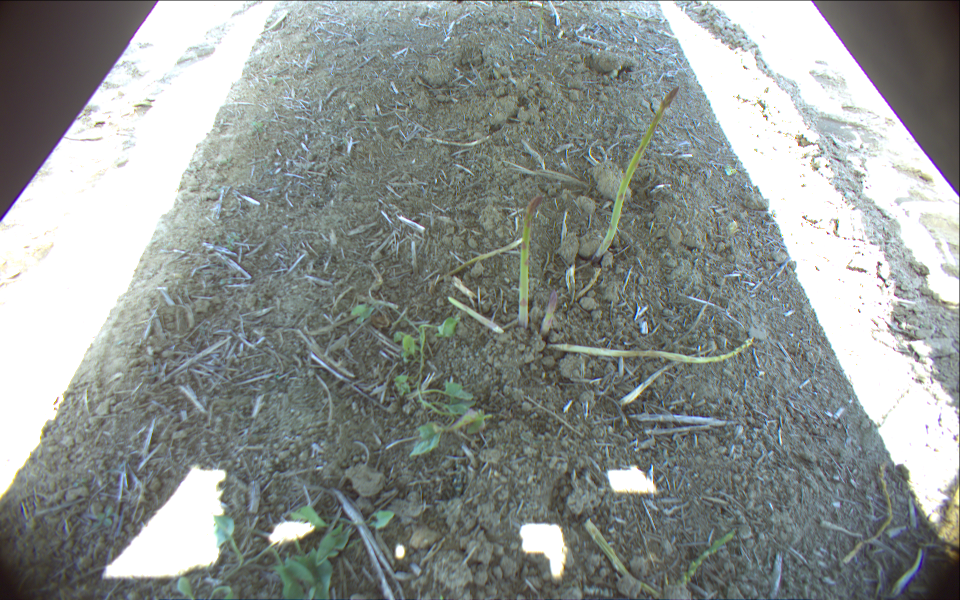aspa: (591, 84, 680, 259), (584, 522, 728, 600), (555, 336, 755, 365), (839, 468, 894, 564), (516, 195, 547, 327), (441, 239, 523, 277), (449, 297, 503, 334), (539, 290, 559, 335), (613, 9, 663, 22), (538, 1, 546, 47)
